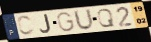2: (115, 6, 134, 28)
C: (16, 15, 36, 36)
G: (56, 11, 76, 32)
J: (39, 13, 53, 34)
Q: (96, 8, 116, 28)
U: (72, 7, 96, 31)
